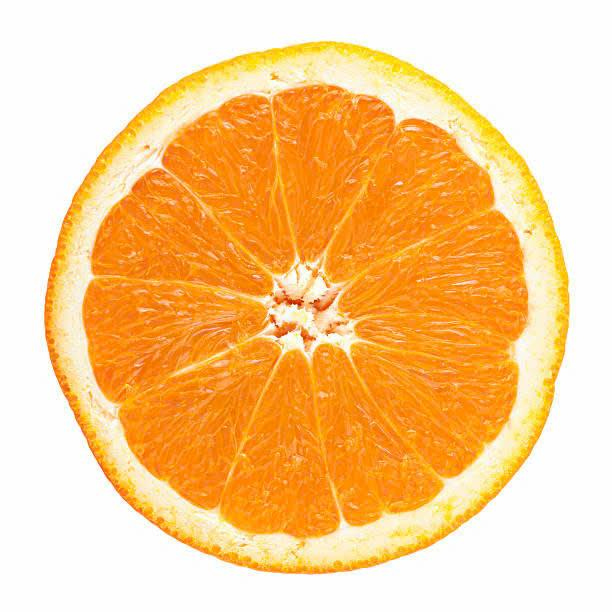orange: (44, 42, 572, 573)
